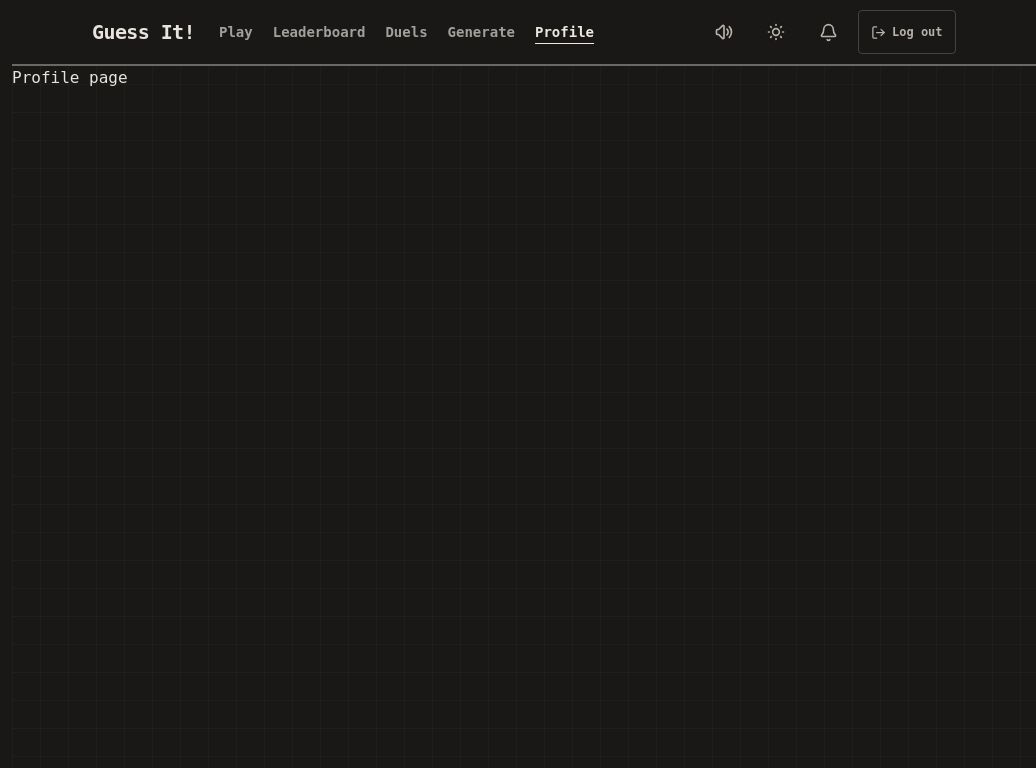
Test: Header mobile navigation › sends you to the landing page after logging out
Step 1. Click the button "Log out" → click(907, 32), box [858,10,956,54]
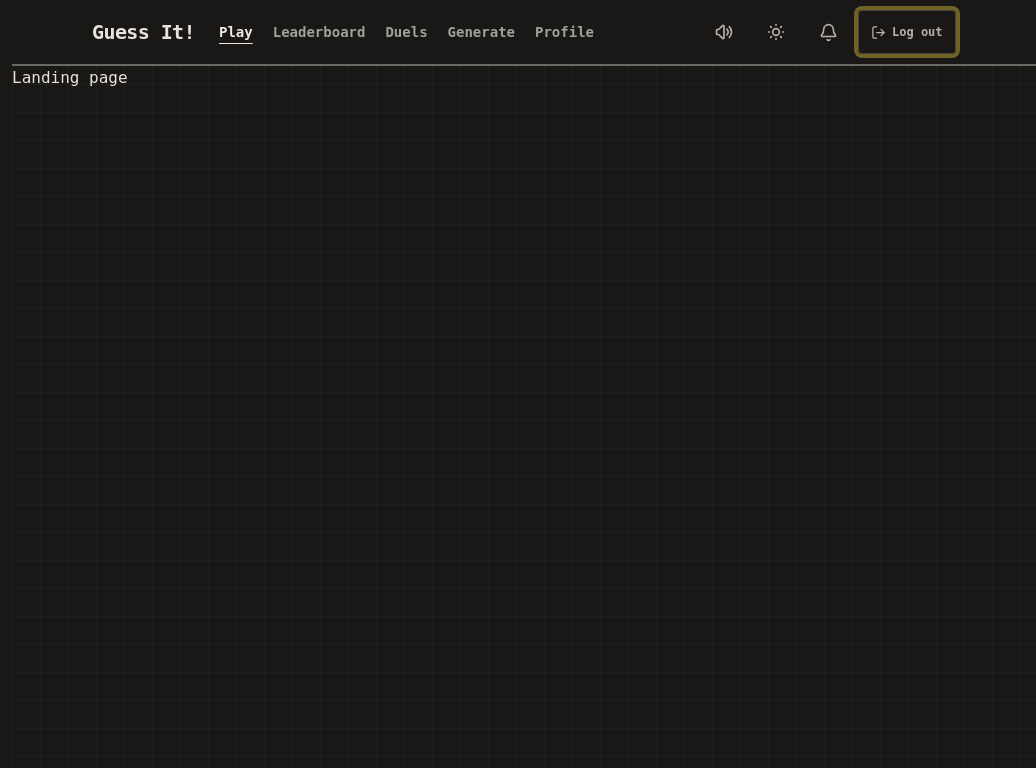
Now the text "Landing page" is shown, box [12,68,128,87]
